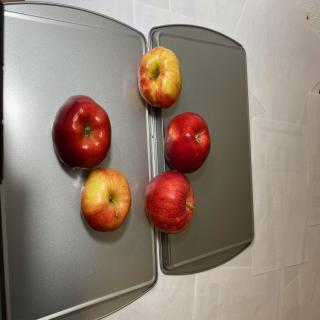Apple: (52, 95, 112, 170), (80, 167, 132, 232), (144, 170, 194, 234), (163, 112, 210, 174), (137, 46, 182, 109)
